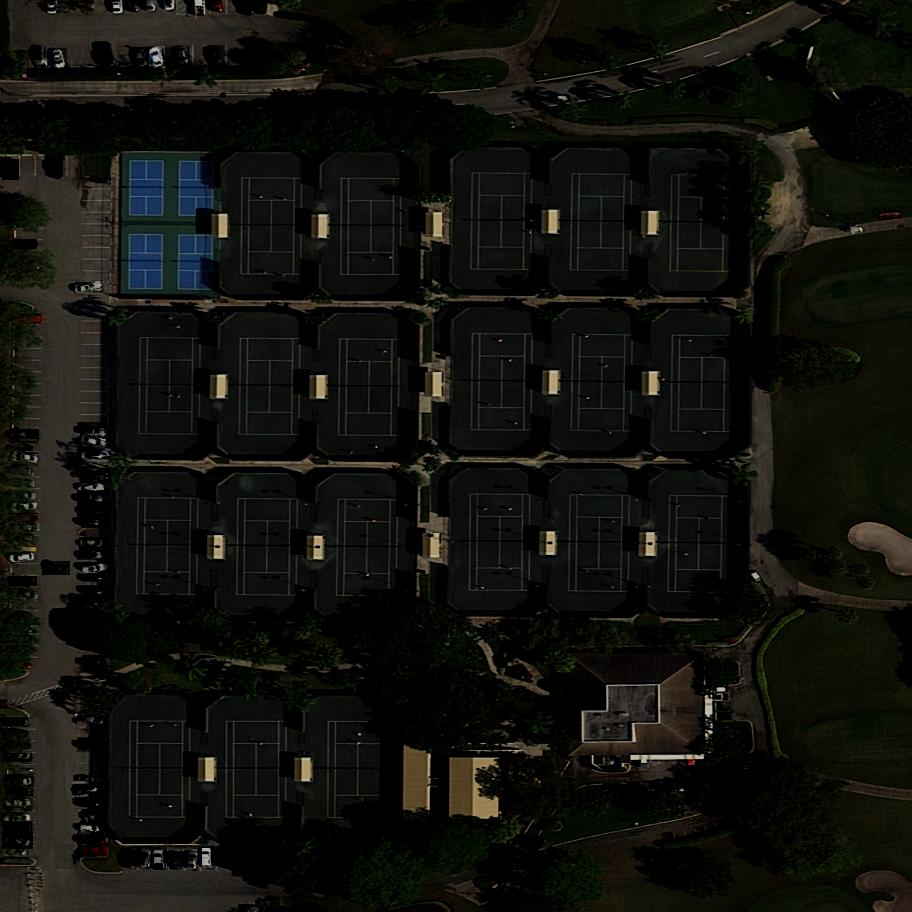small-vehicle: (78, 501, 111, 523), (77, 433, 110, 453), (95, 42, 118, 69), (72, 782, 106, 800), (12, 584, 42, 604), (77, 422, 108, 441), (2, 832, 34, 850), (74, 280, 105, 298), (81, 807, 109, 826), (77, 738, 109, 754), (80, 561, 110, 577), (80, 468, 112, 483), (4, 774, 36, 789), (4, 821, 34, 837), (11, 451, 39, 468), (8, 500, 39, 515), (134, 847, 154, 870), (78, 481, 108, 496), (208, 45, 227, 68), (77, 491, 106, 506), (81, 448, 112, 462), (42, 561, 70, 576), (78, 844, 108, 858), (3, 811, 33, 825), (132, 47, 150, 70), (149, 46, 167, 69), (80, 537, 109, 551), (8, 430, 39, 443), (75, 799, 108, 811), (4, 797, 34, 810), (84, 585, 110, 600), (78, 822, 105, 836), (77, 832, 104, 846), (77, 573, 107, 585), (51, 48, 68, 69), (176, 47, 193, 67), (2, 160, 19, 180), (9, 551, 37, 563), (77, 715, 105, 727), (49, 154, 63, 177), (83, 655, 107, 668), (78, 775, 106, 786), (186, 850, 200, 872), (81, 518, 109, 528), (124, 849, 139, 867), (153, 849, 165, 870), (3, 846, 28, 856), (78, 551, 105, 560), (170, 850, 182, 870), (10, 577, 36, 586), (12, 240, 37, 249), (3, 718, 27, 727), (34, 47, 45, 66), (5, 754, 32, 761), (7, 789, 33, 796), (846, 225, 864, 235), (203, 848, 212, 866), (552, 96, 567, 100)
